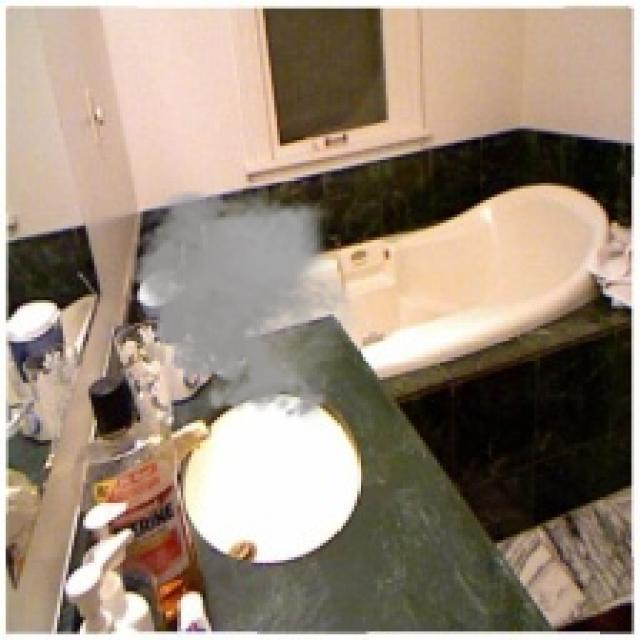Smoke: (120, 180, 366, 426)
